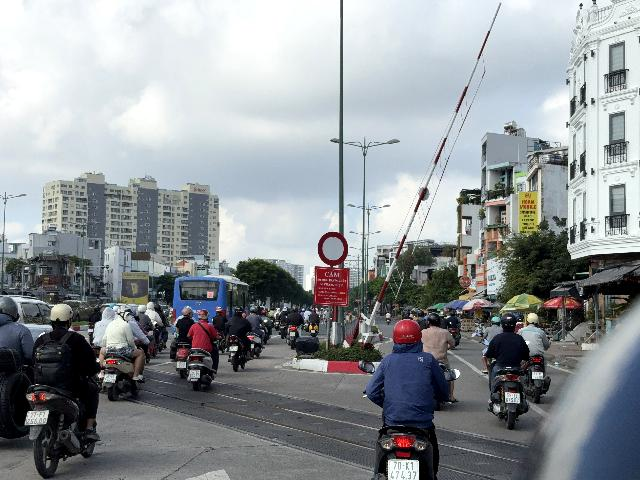duong-cam: (317, 231, 348, 266)
